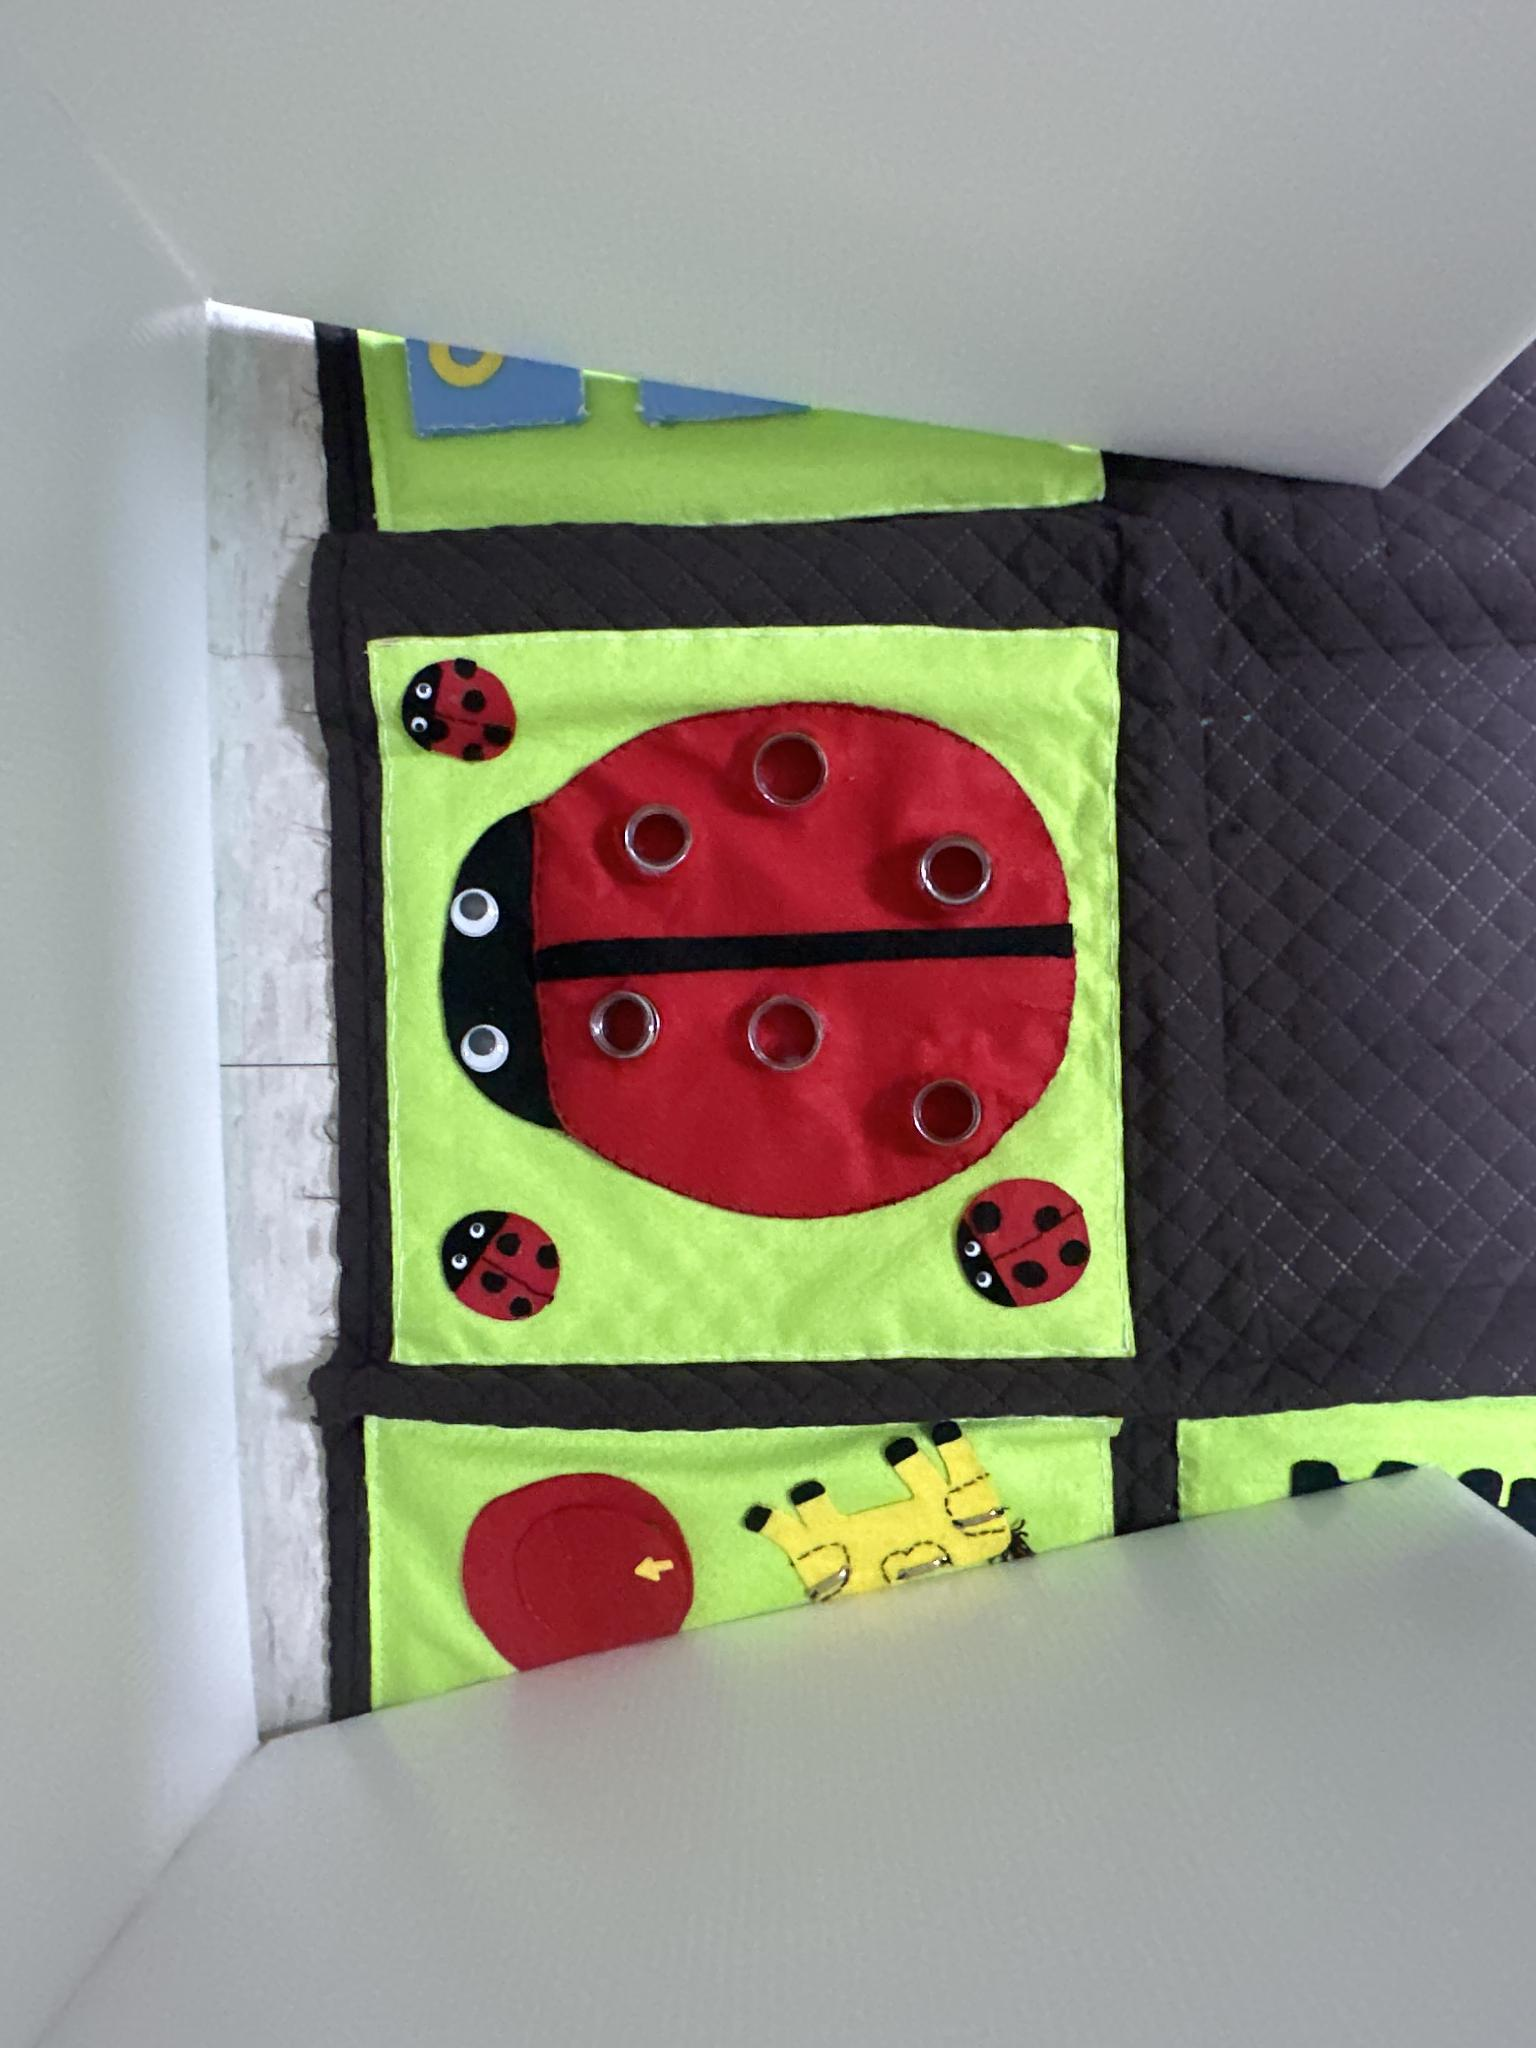hole: (749, 727, 828, 816), (741, 997, 824, 1072), (620, 803, 697, 877), (915, 830, 992, 903), (907, 1074, 981, 1148), (586, 992, 660, 1063)
ladybug_case: (437, 692, 1073, 1216)
